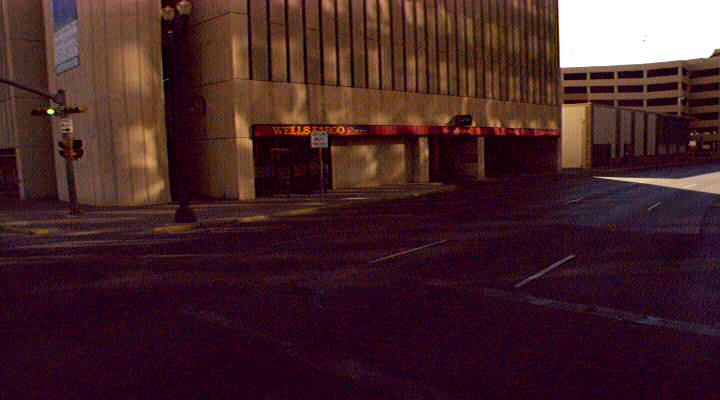Ramp: (33, 214, 167, 242)
